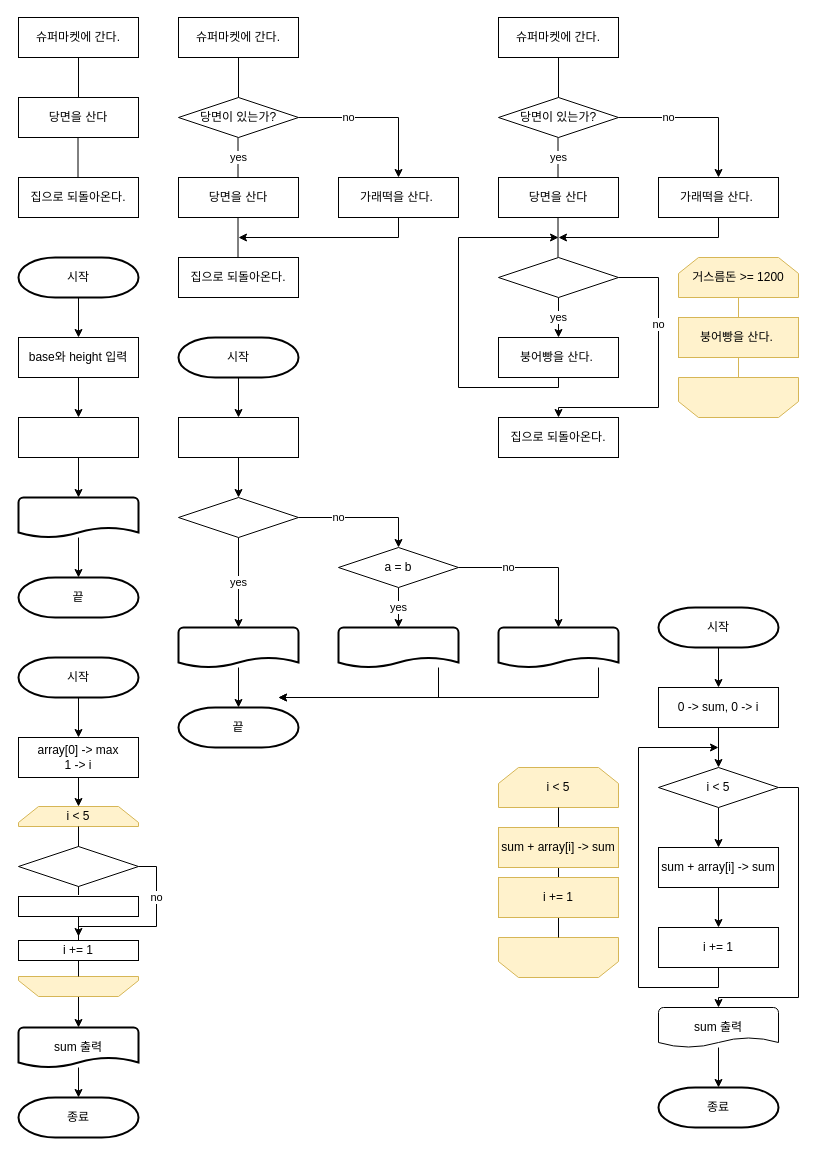
Some shapes in this 824 by 1156 pixel diagram are drawn without their labels. The centre of each missing label's shape, as x and y in pixels:
"a > b" belongs at [238,517].
"a 출력" belongs at [238,647].
"area 출력" belongs at [78,517].
"array[i] ->max" belongs at [78,906].
"array[i] > max" belongs at [78,866].
"a와 b 입력" belongs at [238,437].
"a와 b는 같다" belongs at [398,647].
"b 출력" belongs at [558,647].
"base * height / 2.0 -> area" belongs at [78,437].
"거스름돈 >=1200" belongs at [558,277].
